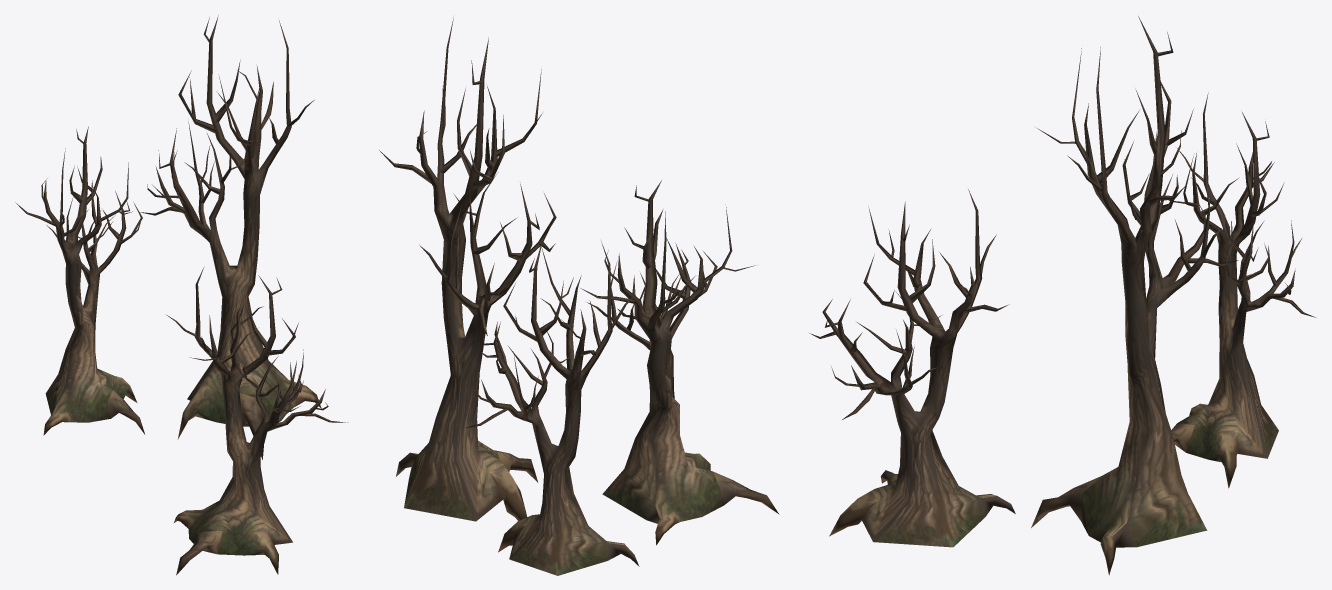
File: plants_tall_tree_trunks13.fbx
3 renders of one model, left to right at view 1: azimuth 30°, elevation 25°; view 2: azimuth 150°, elevation 25°; view 3: azimuth 270°, elevation 25°, orthographic. The views are drawn at different scales.
Visible parts, largest first — view 1: Material_#238683193/fancy_tree; view 2: Material_#238683193/fancy_tree; view 3: Material_#238683193/fancy_tree.
Part boxes in pixels (x1,y1,x2,y2): Material_#238683193/fancy_tree: (15,15,348,575); Material_#238683193/fancy_tree: (379,17,779,575); Material_#238683193/fancy_tree: (809,16,1315,575).
Size of the model in its own units: 6.91 by 12.29 by 10.1.
